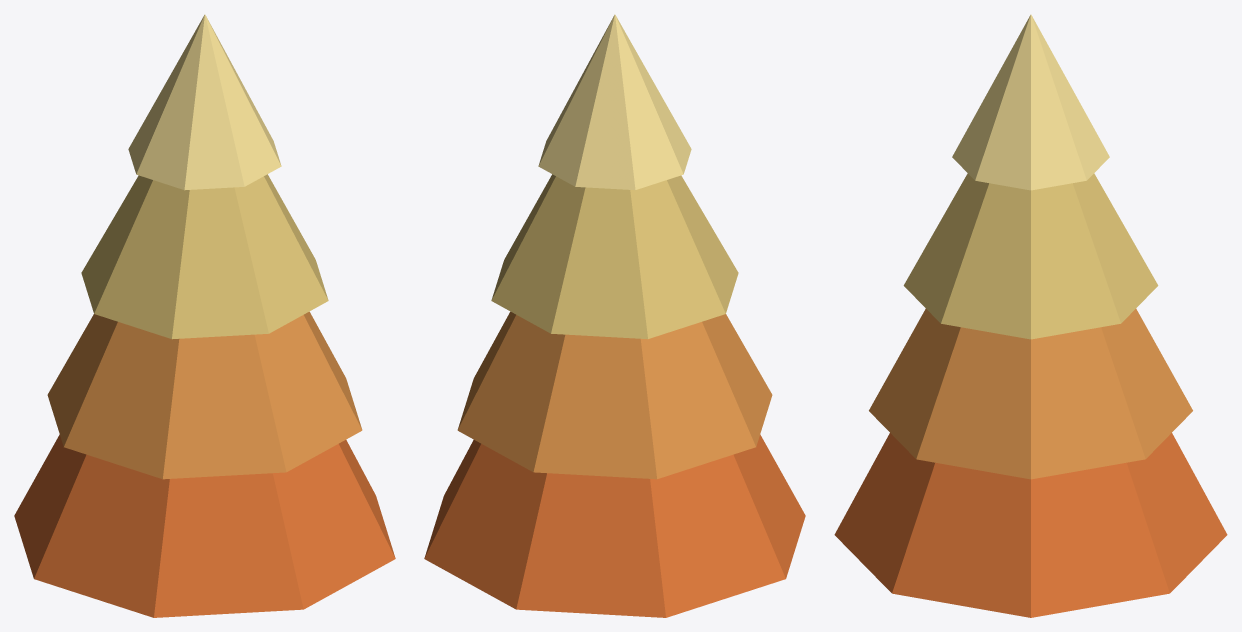
File: 01_03Tree_Orange.fbx
3 views of the same model, side by side, from view 1: azimuth 30°, elevation 25°; view 2: azimuth 150°, elevation 25°; view 3: azimuth 270°, elevation 25° (orthographic).
Visible parts, largest first — view 1: Cone.001; view 2: Cone.001; view 3: Cone.001.
Boxes of the visible parts, x1=… form: Cone.001: x1=14, y1=14, x2=395, y2=617; Cone.001: x1=424, y1=14, x2=805, y2=617; Cone.001: x1=834, y1=14, x2=1227, y2=617.
Size of the model in its own units: 133 by 195 by 133.
